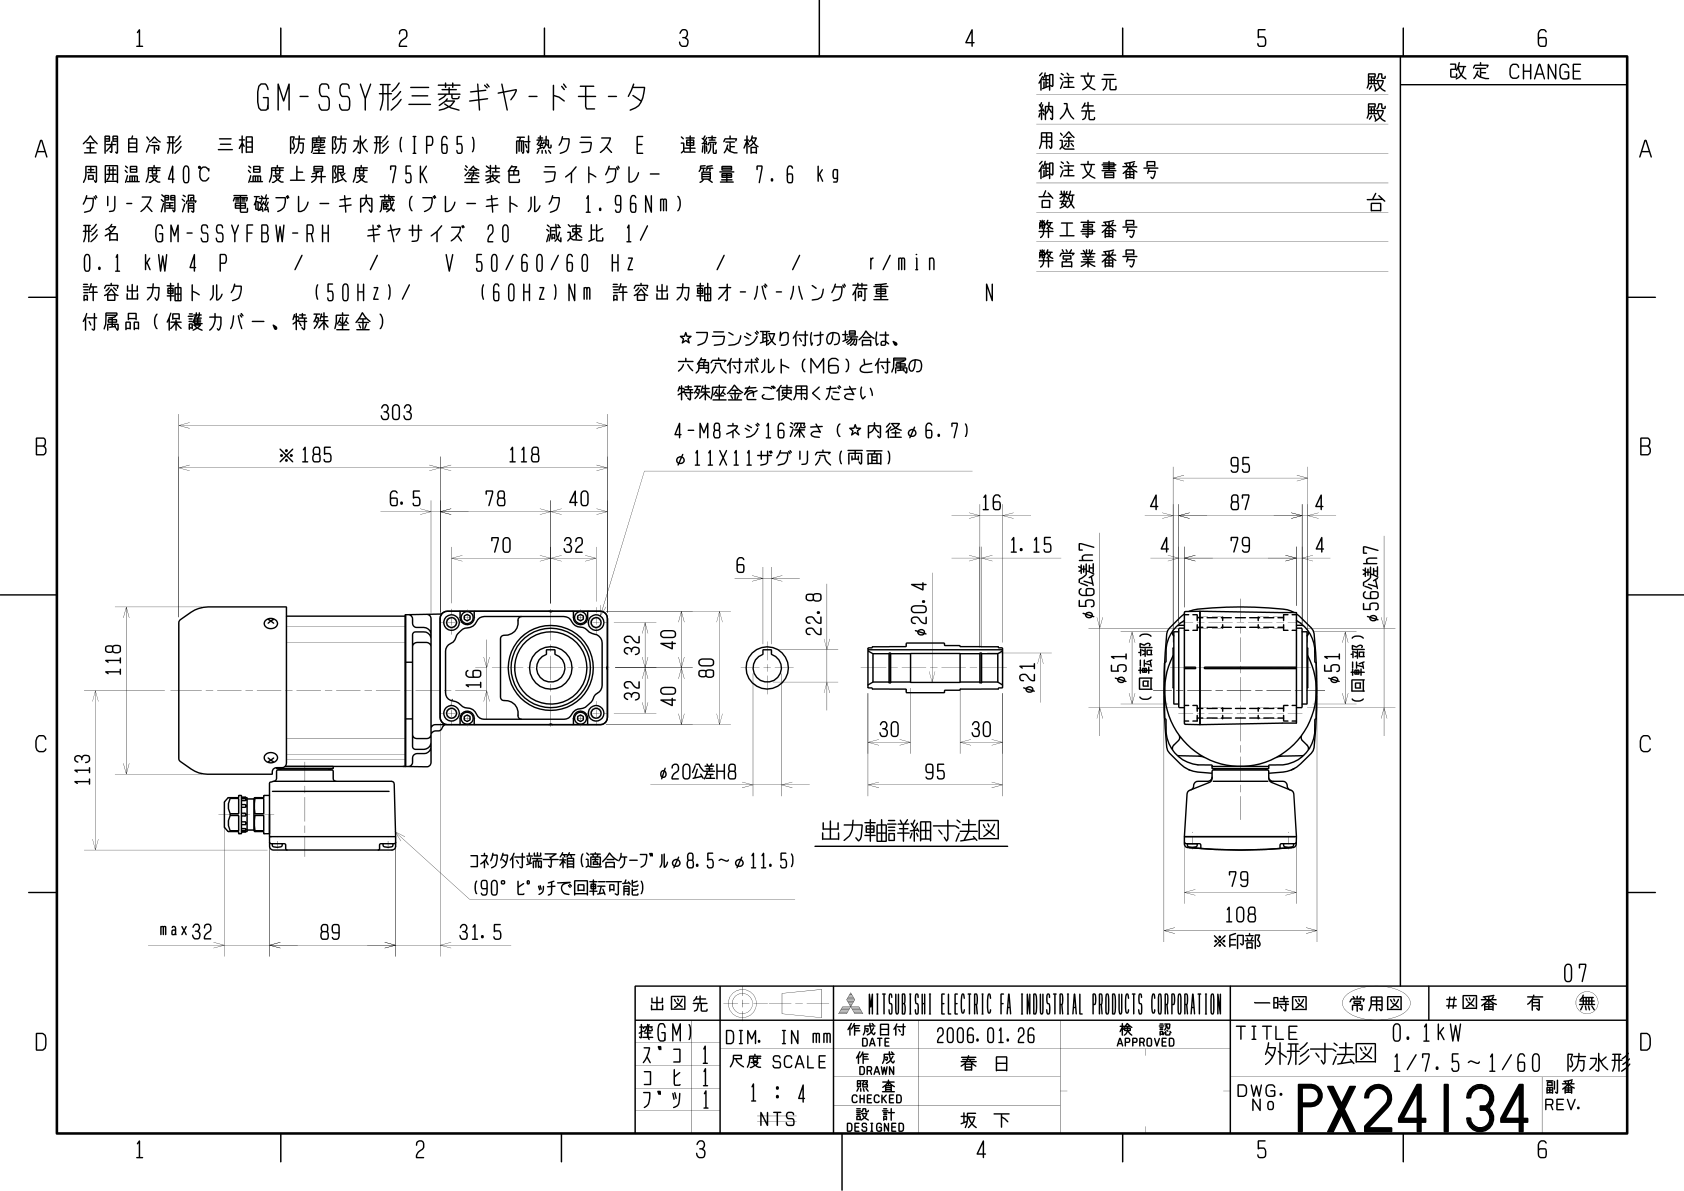GM_SSY_IP65_三相: (1, 1, 1671, 1176)
